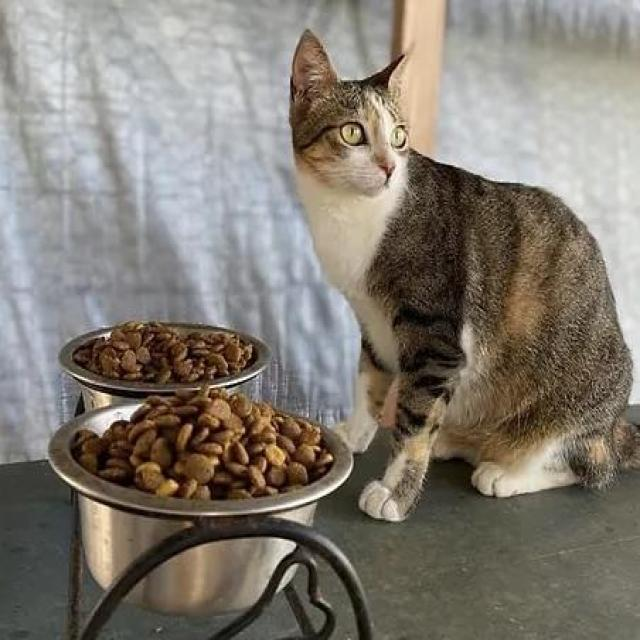domestic_short_hair_cat: (285, 21, 431, 216)
